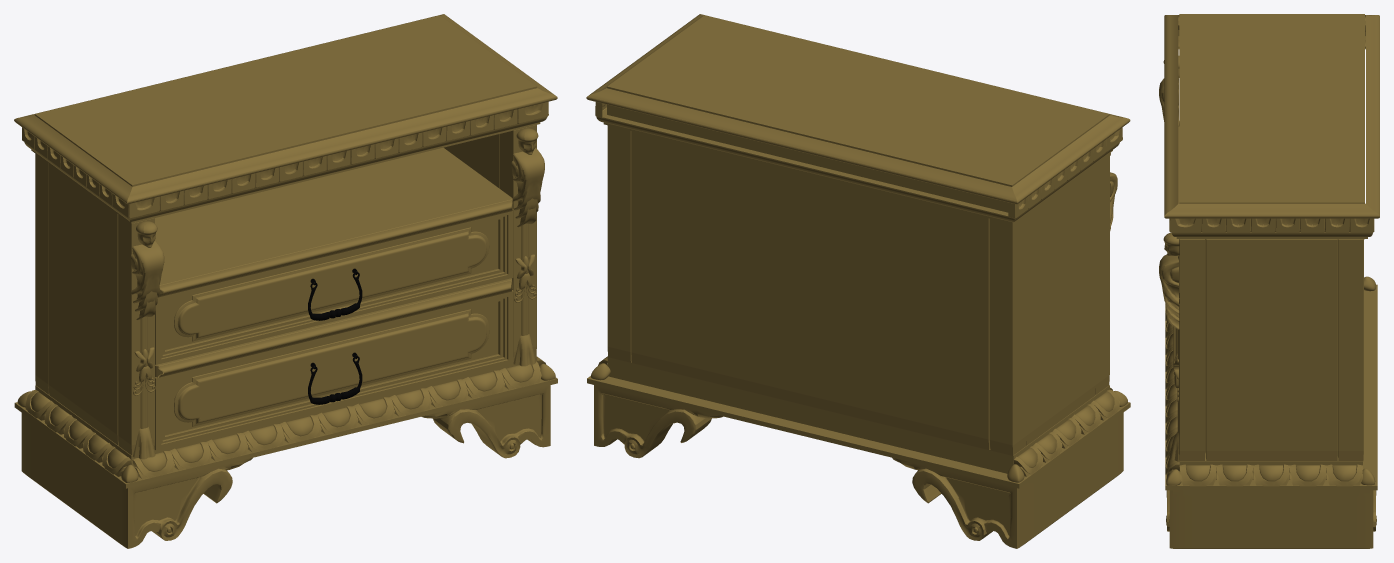
Rendered from Commode_resize.FBX.
3 renders of one model, left to right at view 1: azimuth 30°, elevation 25°; view 2: azimuth 150°, elevation 25°; view 3: azimuth 270°, elevation 25°, orthographic. The views are drawn at different scales.
Parts seen in each view (by area): view 1: Box17; view 2: Box17; view 3: Box17.
Part boxes in pixels (box(x1,y1,x2,y2)): Box17: box(14, 14, 557, 548); Box17: box(586, 14, 1130, 548); Box17: box(1159, 14, 1379, 548).
Size of the model in its own units: 32.14 by 25.52 by 14.9.
